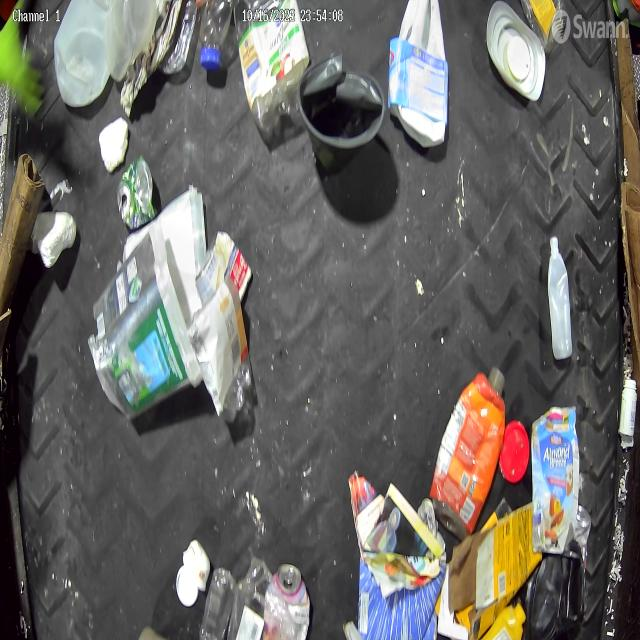can: (195, 231, 252, 306), (266, 563, 312, 639), (118, 152, 156, 230)
milk_jug: (397, 0, 449, 149), (54, 0, 119, 106)
non_white_jug: (531, 406, 580, 556), (482, 602, 526, 639)
plastic_bottle: (200, 567, 237, 640), (200, 0, 233, 72)
